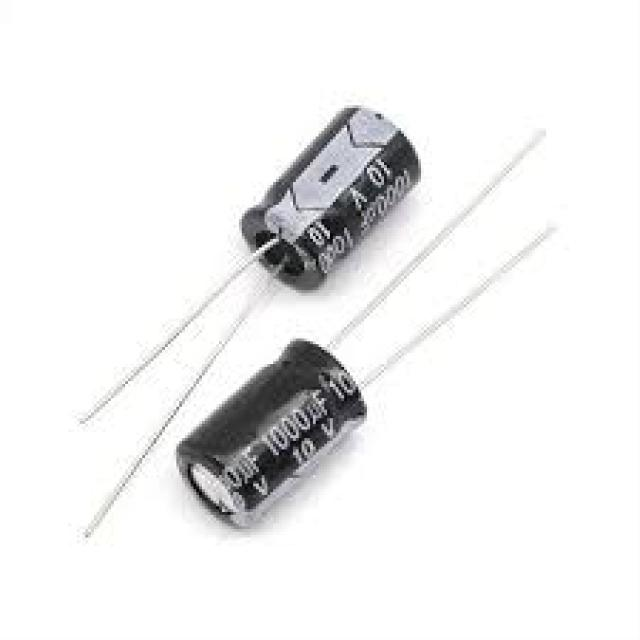Capacitor: (176, 131, 558, 529), (80, 111, 424, 543)
